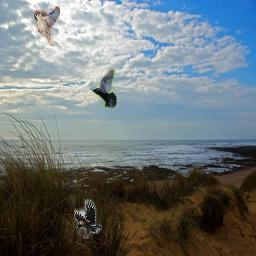Crow: (74, 199, 102, 239), (92, 68, 117, 108)
Sparrow: (34, 6, 60, 46)
